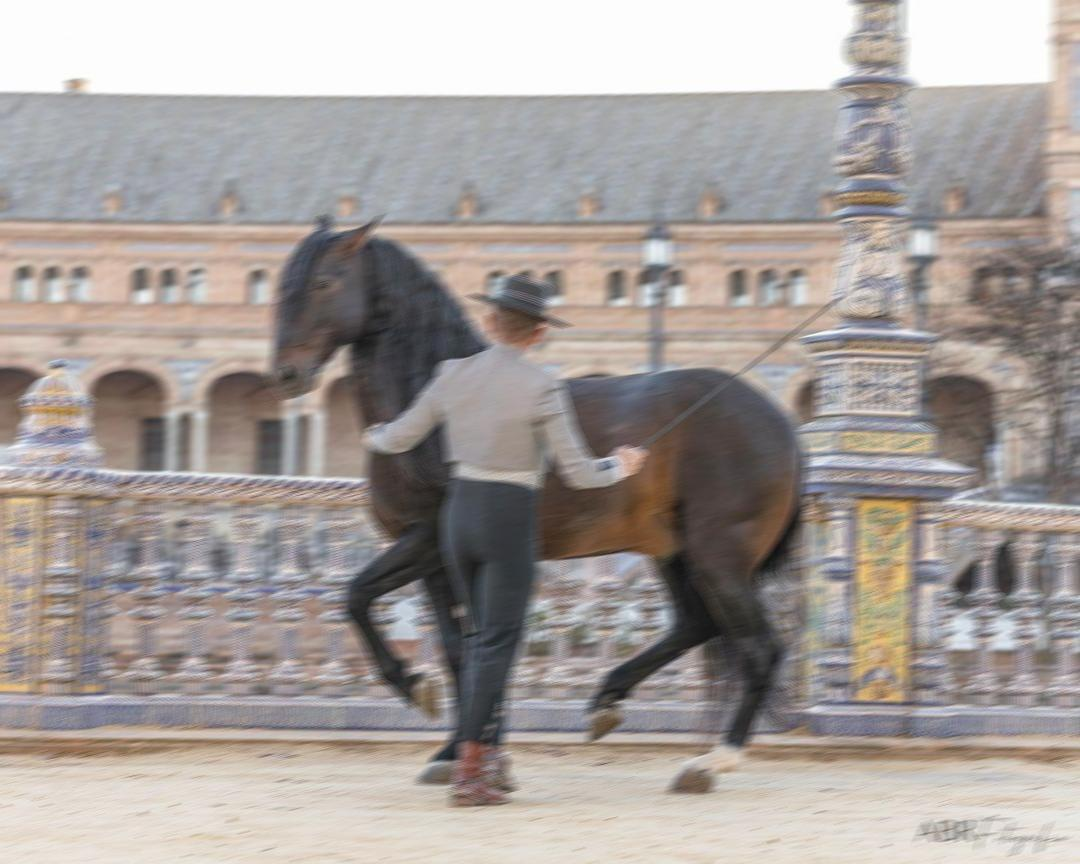horse: (264, 211, 808, 794)
